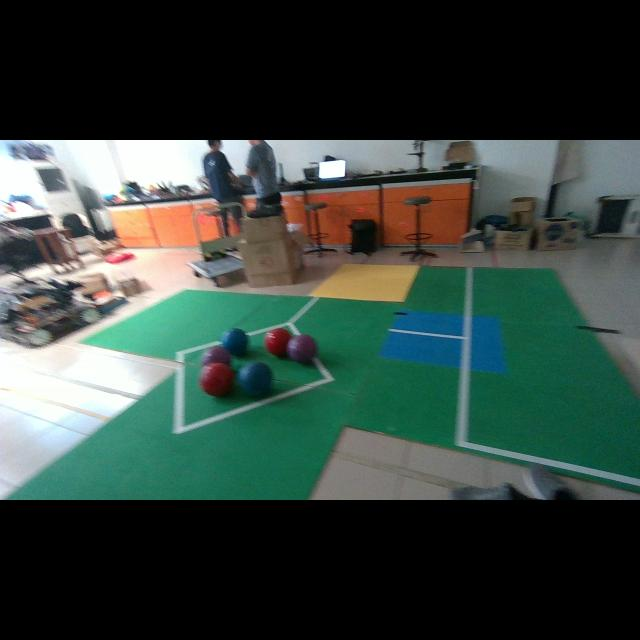B: (238, 362, 272, 397), (220, 329, 248, 356)
P: (286, 334, 316, 363), (201, 346, 231, 366)
R: (199, 362, 232, 396), (264, 328, 291, 356)
